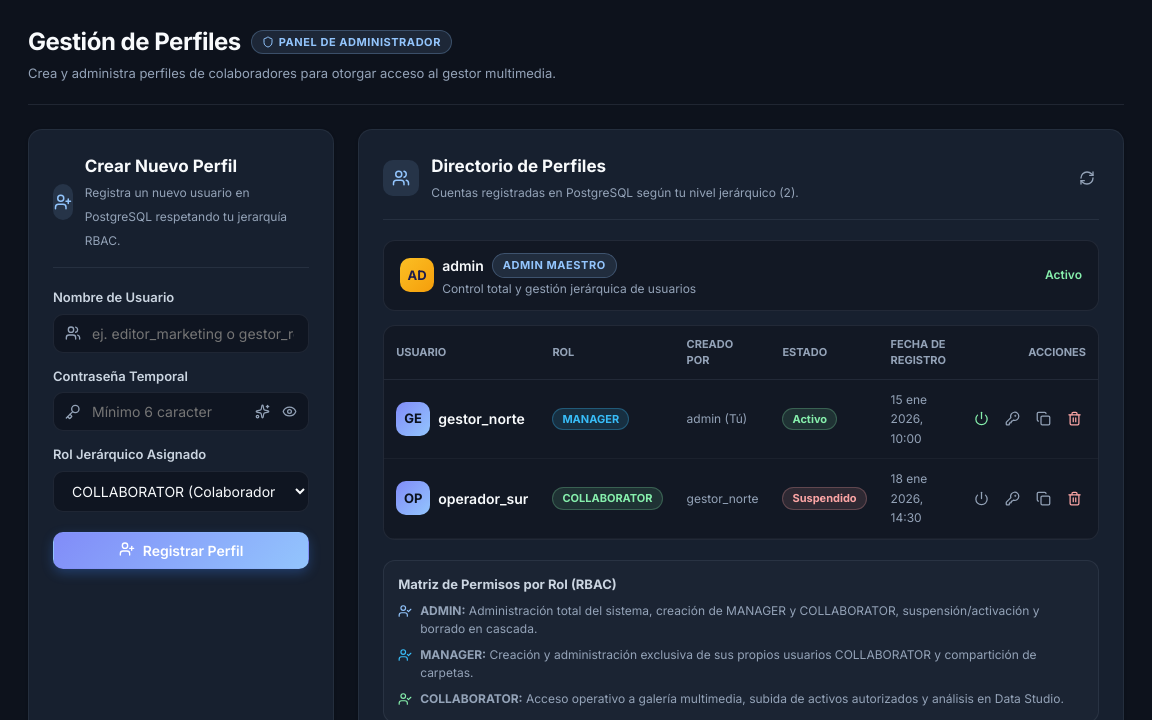
Test: UserProfilesView — RBAC & PostgreSQL CRUD Integration (Módulo 12) › toggles user status in 1 click via usersService.updateUserStatus
The image size is (1152, 720).
Click the button named "Suspender usuario gestor_norte": (982, 419) [970,407,993,430]
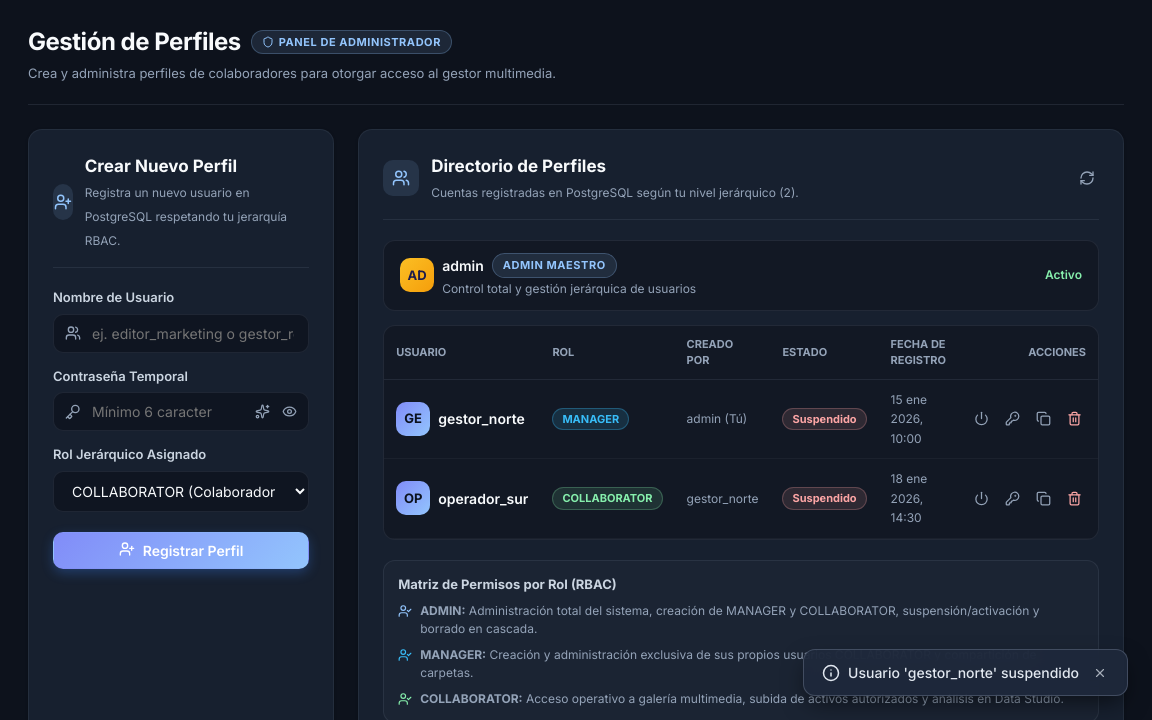
Check: the row with test id "user-row-gestor_norte" shows "Suspendido", box [792,412,857,426]
